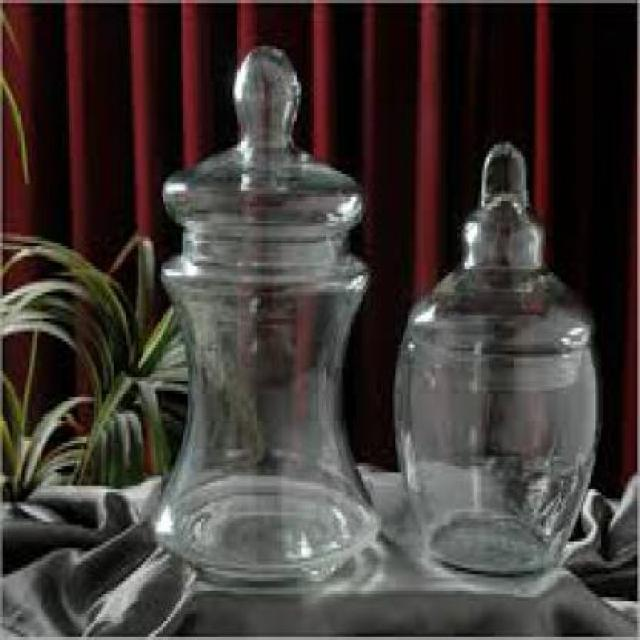kaca: (149, 43, 382, 585), (391, 138, 598, 574)
